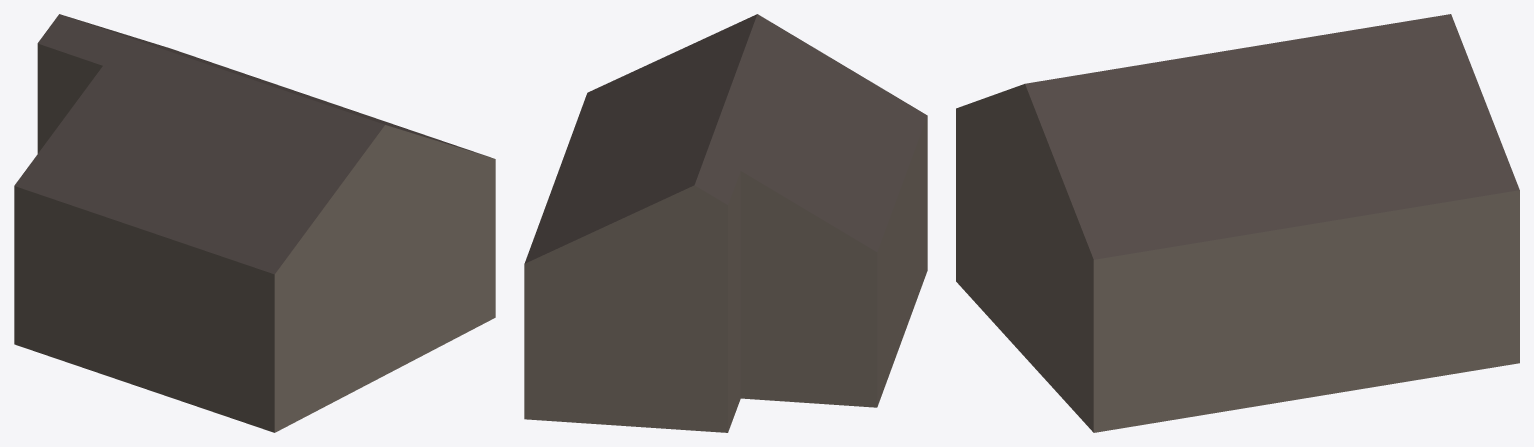
3 views of the same model, side by side, from view 1: azimuth 30°, elevation 25°; view 2: azimuth 150°, elevation 25°; view 3: azimuth 270°, elevation 25° (orthographic). The views are drawn at different scales.
Visible parts, largest first — view 1: HP-w1376988780; view 2: HP-w1376988780; view 3: HP-w1376988780.
Part boxes in pixels (x1=…): HP-w1376988780: x1=14, y1=14, x2=495, y2=432; HP-w1376988780: x1=524, y1=14, x2=927, y2=432; HP-w1376988780: x1=956, y1=14, x2=1519, y2=432.
Size of the model in its own units: 15.4 by 9.48 by 17.71.
